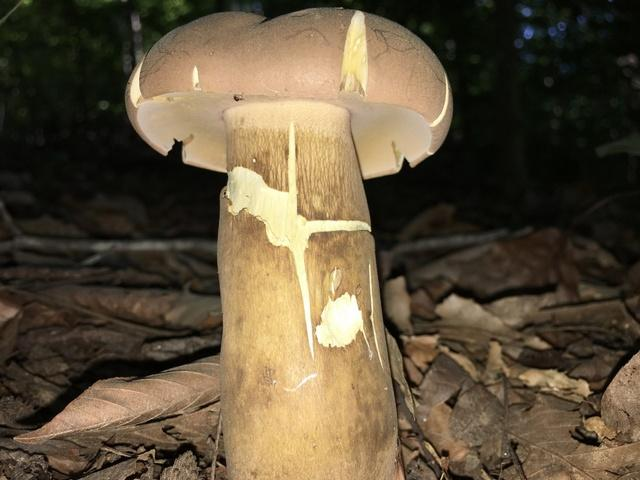poisonous_mushroom: (123, 6, 454, 478)
